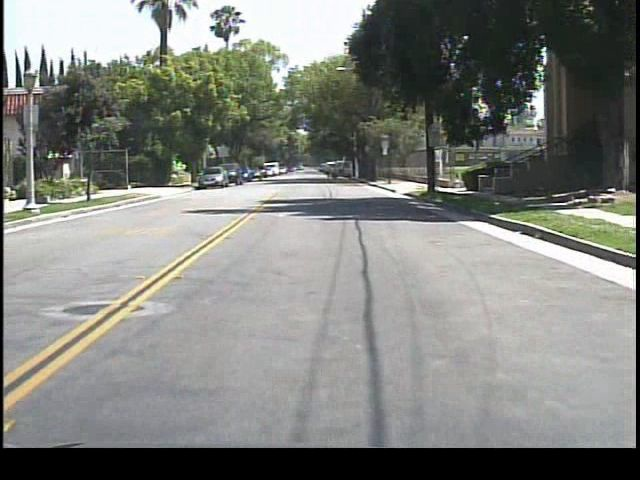person: (320, 159, 335, 184)
